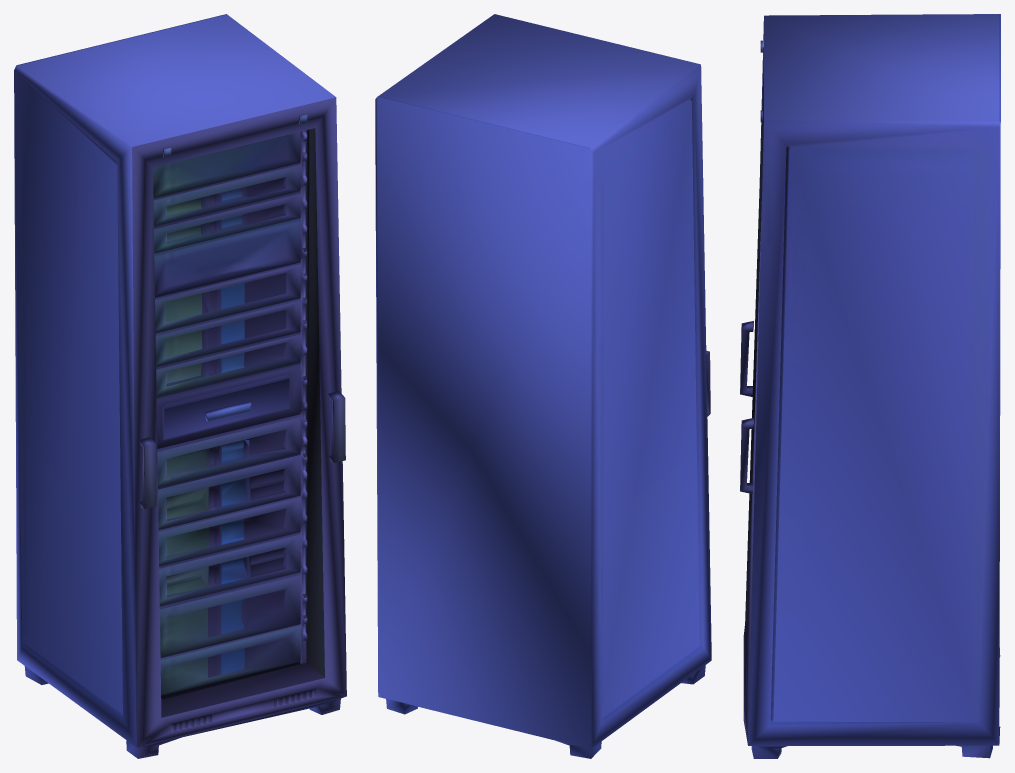
File: model.progressive.glb
3 renders of one model, left to right at view 1: azimuth 30°, elevation 25°; view 2: azimuth 150°, elevation 25°; view 3: azimuth 270°, elevation 25°, orthographic. The views are drawn at different scales.
Visible parts, largest first — view 1: material; view 2: material; view 3: material.
Boxes of the visible parts, bbox=[...] form: material: bbox=[14, 14, 346, 758]; material: bbox=[375, 14, 711, 758]; material: bbox=[740, 14, 1000, 758].
Bounding box in the file's own units: 0.7049 × 1.9 × 0.7006.
1 material, 1 textured.
